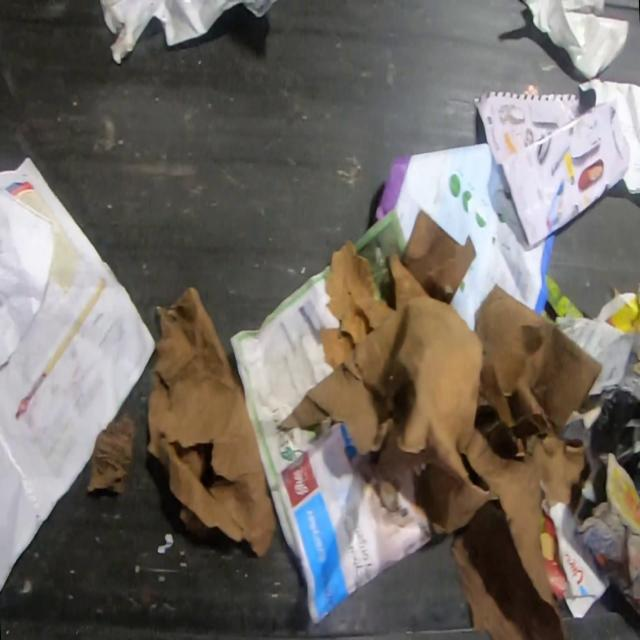cardboard: (275, 205, 599, 640), (144, 282, 278, 556)
